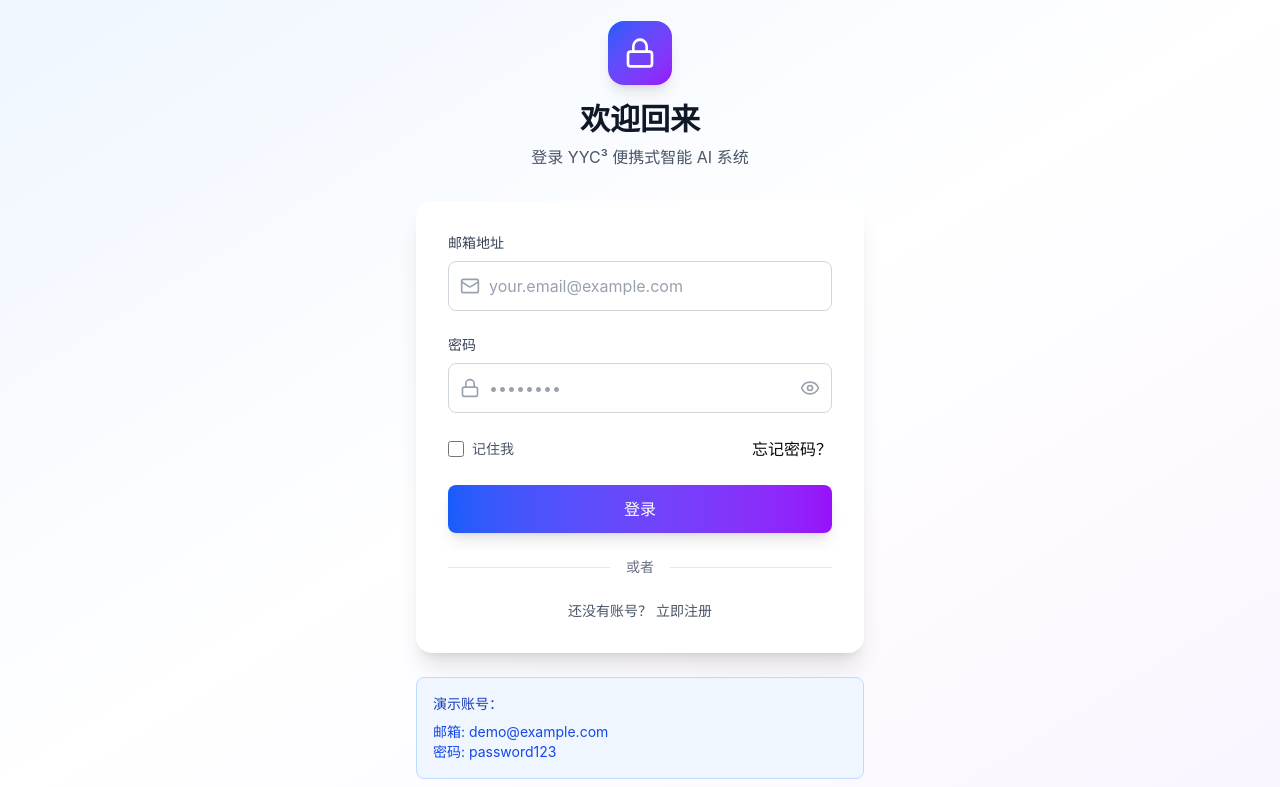
Test: LoginPage › 应该验证空邮箱
Click the button "登录": (640, 509) [448, 485, 832, 533]
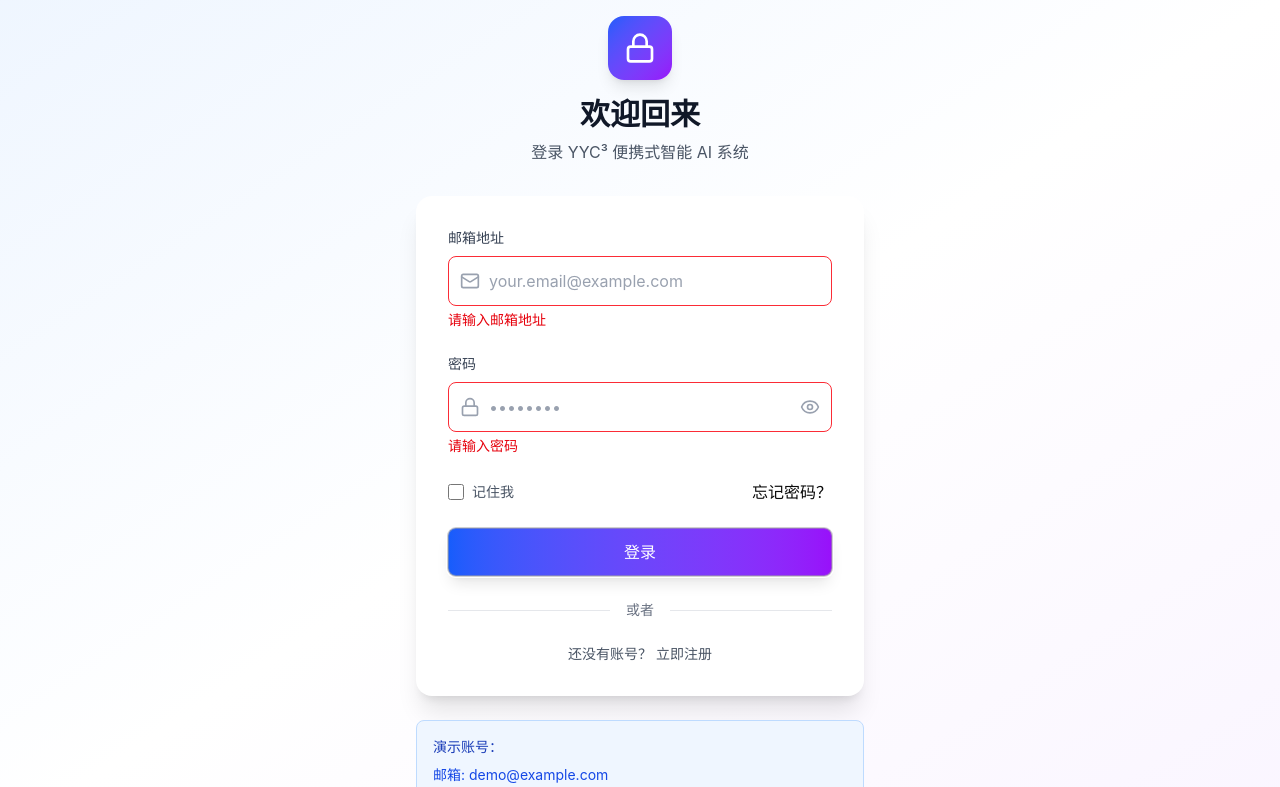
Check: the text "请输入邮箱地址" is shown, box [448, 311, 546, 328]
